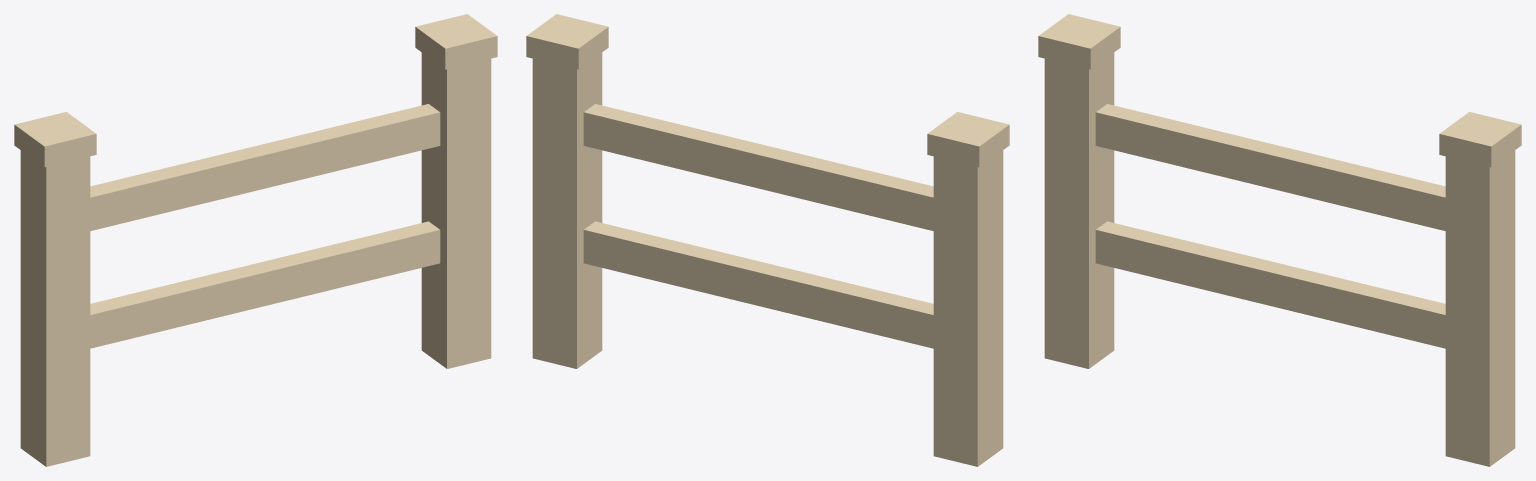
Rendered from fence.obj.
3 views of the same model, side by side, from view 1: azimuth 30°, elevation 25°; view 2: azimuth 150°, elevation 25°; view 3: azimuth 330°, elevation 25° (orthographic).
Parts seen in each view (by area): view 1: fence; view 2: fence; view 3: fence.
Part boxes in pixels (x1,y1,x2,y2): fence: (14, 14, 497, 466); fence: (526, 14, 1009, 466); fence: (1038, 14, 1521, 466).
Bounding box in the file's own units: 1.13 × 0.77 × 0.13.
